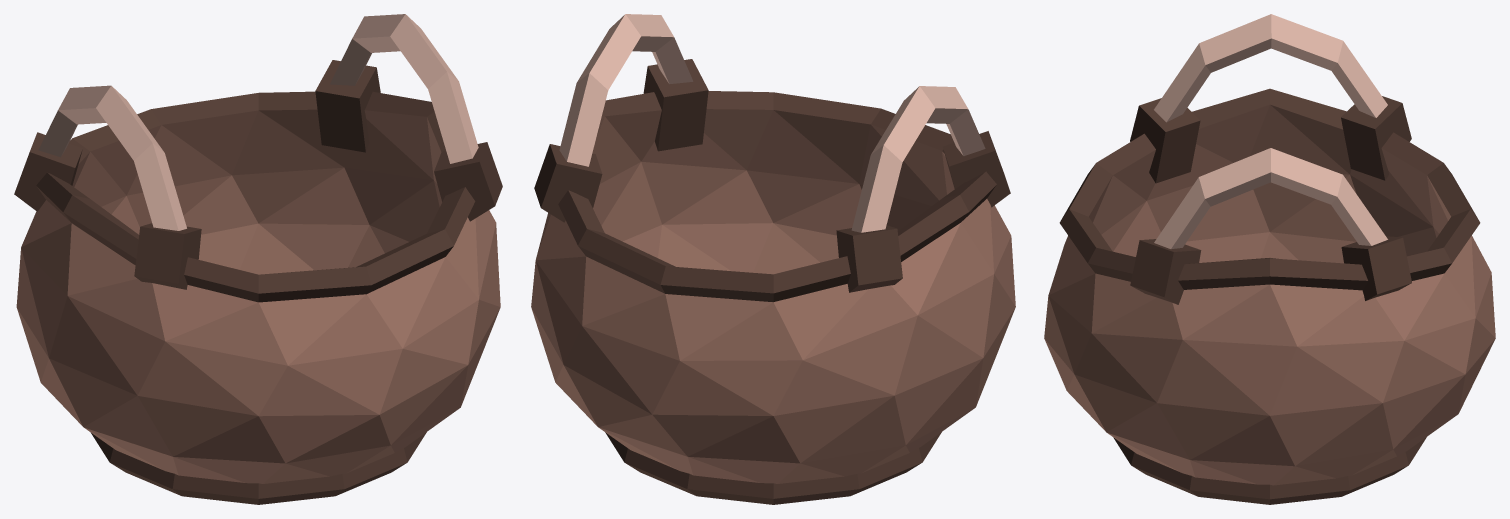
Rendered from Basket_02.glb.
The picture shows the model from 3 angles, left to right: view 1: azimuth 30°, elevation 25°; view 2: azimuth 150°, elevation 25°; view 3: azimuth 270°, elevation 25°; orthographic projection. The views are drawn at different scales.
Parts seen in each view (by area): view 1: Basket_2_mesh; view 2: Basket_2_mesh; view 3: Basket_2_mesh.
Boxes of the visible parts, <box> form: Basket_2_mesh: <box>14,14,502,504</box>; Basket_2_mesh: <box>531,14,1015,504</box>; Basket_2_mesh: <box>1044,14,1495,504</box>.
Bounding box in the file's own units: 0.3991 × 0.3546 × 0.3991.
1 material, 1 textured.
